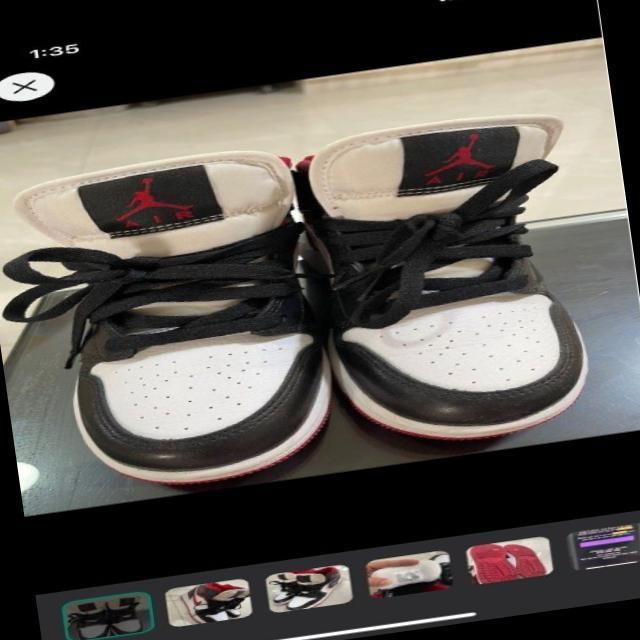nike fake jordan 1: (4, 137, 357, 505), (288, 100, 604, 458)
